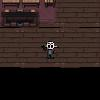Hide: (0, 8, 40, 28)
Jason: (40, 40, 59, 59)
Obstacle: (0, 0, 21, 8), (21, 0, 40, 8), (40, 0, 56, 8)
